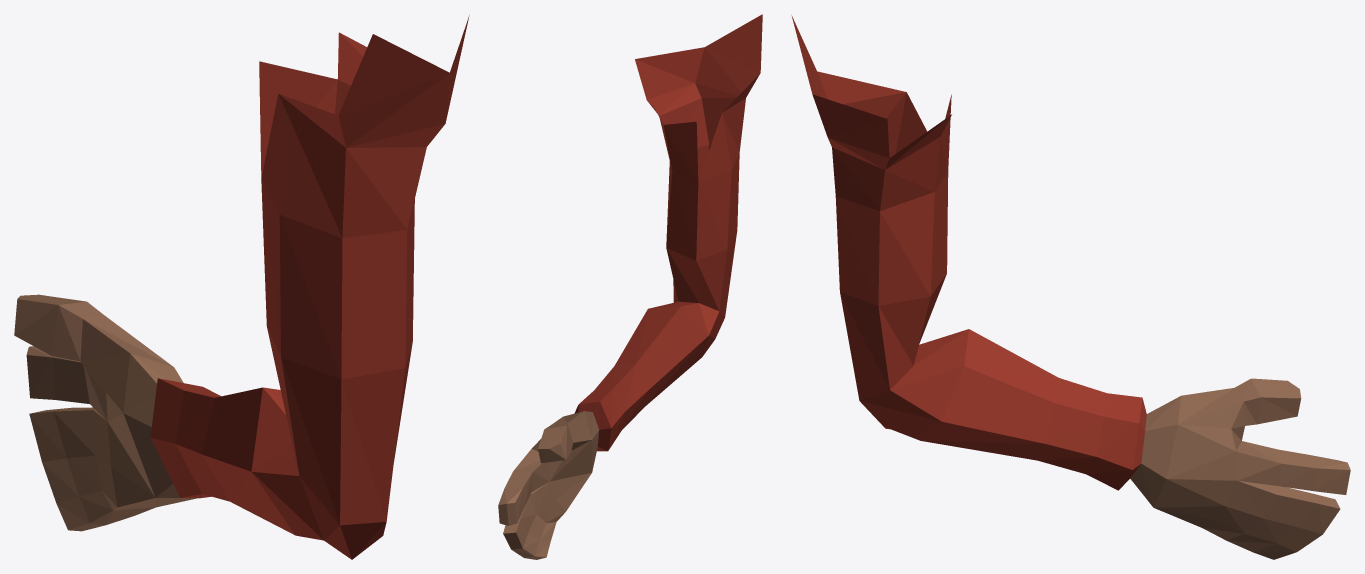
The model's file is Son_01_ArmR_72_01_C.obj.
3 renders of one model, left to right at view 1: azimuth 30°, elevation 25°; view 2: azimuth 150°, elevation 25°; view 3: azimuth 270°, elevation 25°, orthographic. The views are drawn at different scales.
Visible parts, largest first — view 1: Son_01_ArmR_72_01_C; view 2: Son_01_ArmR_72_01_C; view 3: Son_01_ArmR_72_01_C.
Boxes of the visible parts, x1,y1,x2,y2 form: Son_01_ArmR_72_01_C: (14,15,469,559); Son_01_ArmR_72_01_C: (498,14,762,559); Son_01_ArmR_72_01_C: (791,15,1350,559).
Bounding box in the file's own units: 0.1573 × 0.6274 × 0.6069.
1 material, 1 textured.
